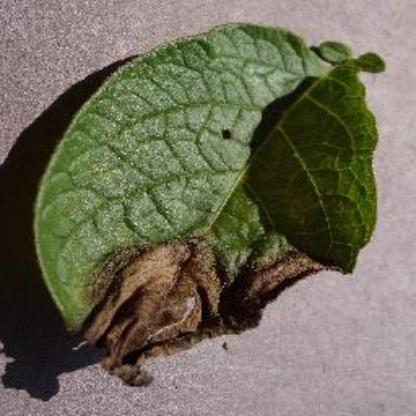Late-Blight: (24, 16, 396, 394)
